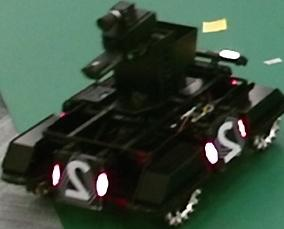armor_2: (51, 165, 108, 197), (206, 119, 246, 164)
